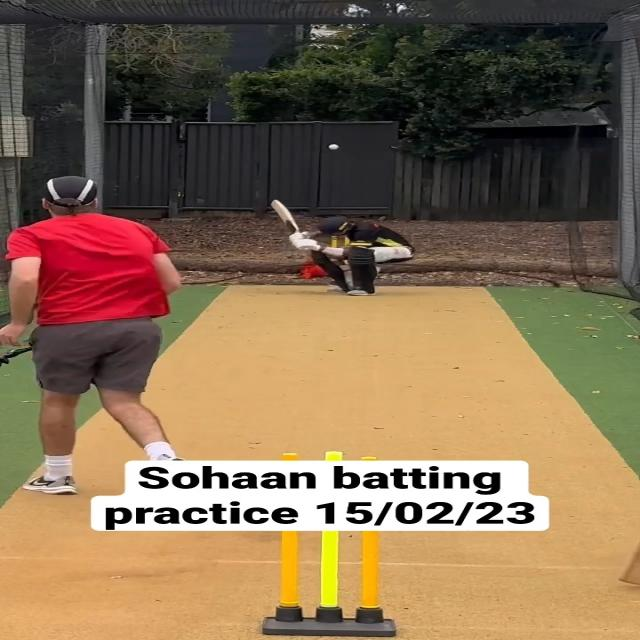ball: (328, 144, 340, 150)
stump: (264, 528, 394, 634)
